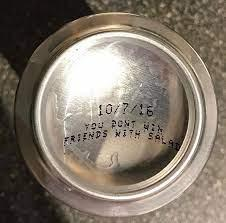metal: (17, 13, 219, 218)
